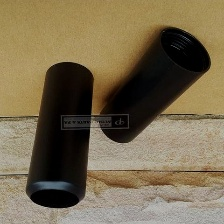bottle: (95, 22, 215, 146), (25, 59, 92, 210)
